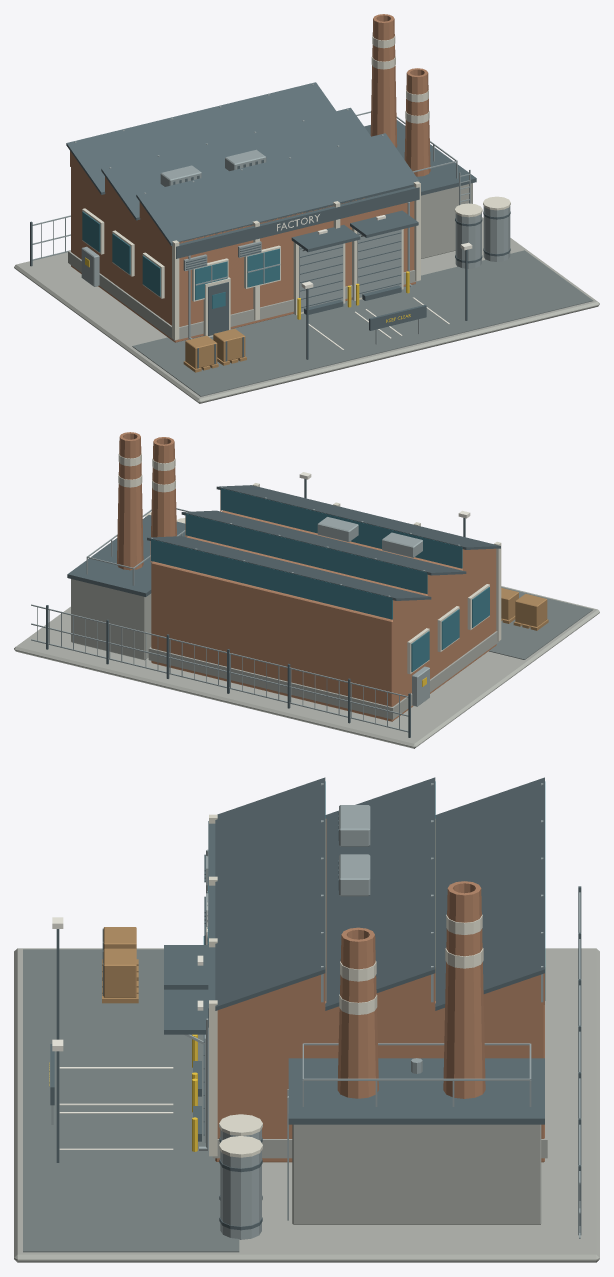
Rendered from Factory.fbx.
3 renders of one model, top to bottom at view 1: azimuth 30°, elevation 25°; view 2: azimuth 150°, elevation 25°; view 3: azimuth 270°, elevation 25°, orthographic. The views are drawn at different scales.
Visible parts, largest first — view 1: Factory Yard, Sawtooth Roof, Main Factory Hall, Industrial Plot, Sawtooth Roof.002, Sawtooth Roof.001, Front Sign Band, Hollow Factory Chimney.001, Utility Annex, Main Wall Plinth, Industrial Loading Door.001, Industrial Loading Door (+22 smaller); view 2: Main Factory Hall, Industrial Plot, Northlight Glazing.001, Northlight Glazing.002, Utility Annex, Northlight Glazing, Main Wall Plinth, Hollow Factory Chimney.001, Sawtooth Roof, Sawtooth Roof.001, Sawtooth Roof.002, Annex Roof (+14 smaller); view 3: Factory Yard, Industrial Plot, Utility Annex, Sawtooth Roof, Main Factory Hall, Sawtooth Roof.002, Sawtooth Roof.001, Annex Roof, Hollow Factory Chimney.001, Hollow Factory Chimney, Storage Tank.001, Loading Canopy (+14 smaller).
Part boxes in pixels (bbox=[...]): Factory Yard: bbox=[132, 250, 593, 396]; Sawtooth Roof: bbox=[136, 133, 420, 245]; Main Factory Hall: bbox=[71, 167, 415, 342]; Industrial Plot: bbox=[14, 217, 599, 403]; Sawtooth Roof.002: bbox=[66, 82, 335, 194]; Sawtooth Roof.001: bbox=[101, 107, 370, 220]; Front Sign Band: bbox=[176, 186, 419, 258]; Hollow Factory Chimney.001: bbox=[370, 14, 397, 147]; Utility Annex: bbox=[421, 183, 472, 258]; Main Wall Plinth: bbox=[68, 250, 418, 340]; Industrial Loading Door.001: bbox=[357, 229, 401, 297]; Industrial Loading Door: bbox=[299, 244, 343, 312]; Main Factory Hall: bbox=[151, 510, 496, 721]; Industrial Plot: bbox=[14, 586, 599, 748]; Northlight Glazing.001: bbox=[185, 514, 427, 593]; Northlight Glazing.002: bbox=[151, 539, 392, 619]; Utility Annex: bbox=[71, 579, 151, 660]; Northlight Glazing: bbox=[220, 488, 462, 568]; Main Wall Plinth: bbox=[148, 631, 499, 719]; Hollow Factory Chimney.001: bbox=[117, 432, 143, 570]; Sawtooth Roof: bbox=[216, 485, 500, 549]; Sawtooth Roof.001: bbox=[181, 510, 466, 575]; Sawtooth Roof.002: bbox=[147, 536, 431, 600]; Annex Roof: bbox=[67, 515, 187, 596]; Factory Yard: bbox=[23, 949, 239, 1252]; Industrial Plot: bbox=[14, 948, 599, 1262]; Utility Annex: bbox=[292, 1124, 541, 1224]; Sawtooth Roof: bbox=[215, 777, 325, 1010]; Main Factory Hall: bbox=[215, 819, 544, 1162]; Sawtooth Roof.002: bbox=[435, 777, 544, 1010]; Sawtooth Roof.001: bbox=[325, 777, 435, 1010]; Annex Roof: bbox=[288, 1058, 544, 1124]; Hollow Factory Chimney.001: bbox=[443, 881, 485, 1098]; Hollow Factory Chimney: bbox=[337, 927, 378, 1098]; Storage Tank.001: bbox=[220, 1150, 261, 1239]; Loading Canopy: bbox=[164, 945, 208, 989].
Bounding box in the file's own units: 2000 × 960 × 1600.
